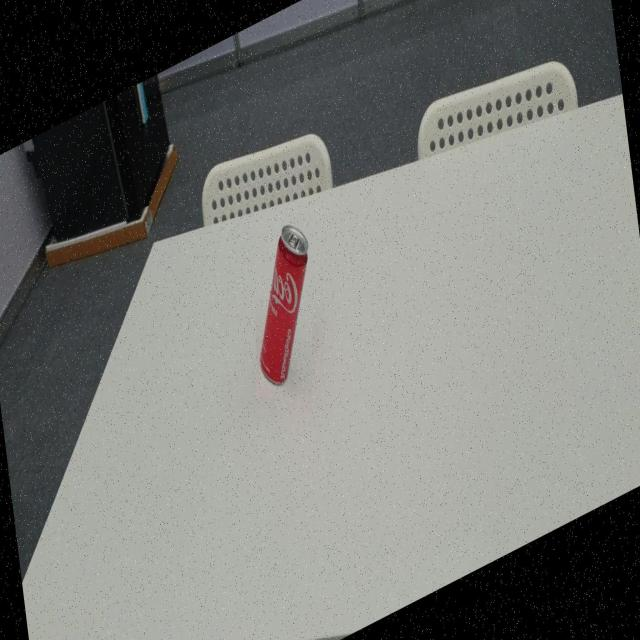coca-cola: (256, 213, 312, 398)
